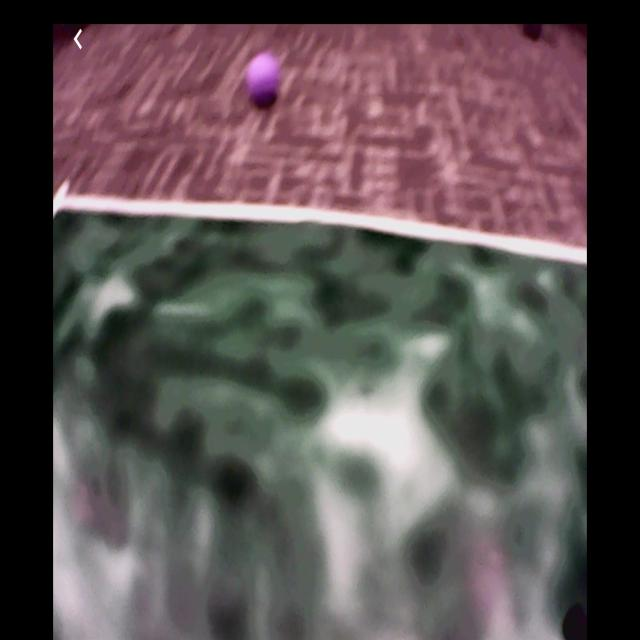ball: (246, 54, 280, 107)
